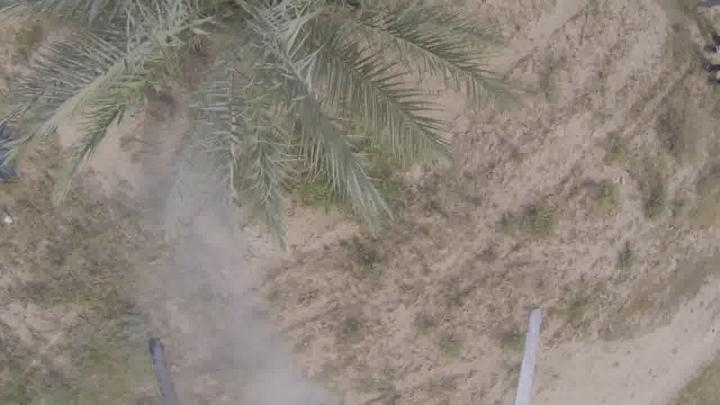Date-Palm-Crown: (40, 0, 416, 176)
